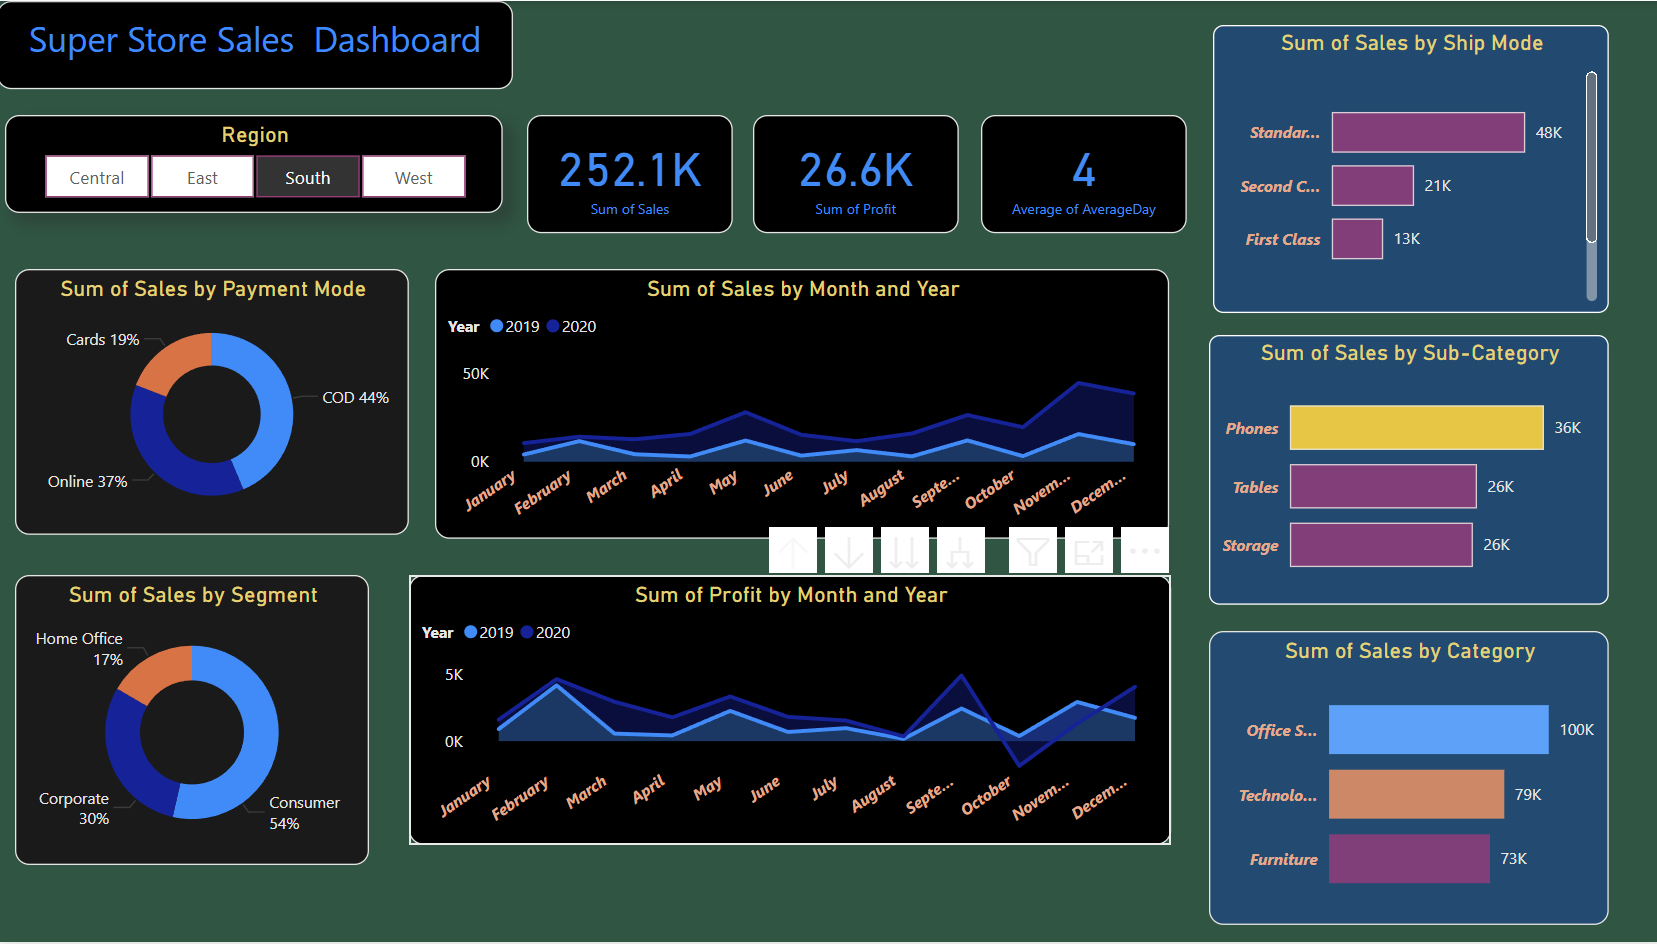

The page's visual inventory and layout, read from the dashboard file:
{"tool":"powerbi","page":{"name":"Page 1","canvas":[1280,720],"ordinal":0},"visuals":[{"type":"clusteredBarChart","fields":{"Category":["SuperStore_Sales_Dataset.Category"],"Y":["Sum(SuperStore_Sales_Dataset.Sales)"]},"box":[929.4,482.3,306.2,225.1],"z":0},{"type":"clusteredBarChart","fields":{"Category":["SuperStore_Sales_Dataset.Sub-Category"],"Y":["Sum(SuperStore_Sales_Dataset.Sales)"]},"box":[929.4,255.7,306.2,206.7],"z":1000},{"type":"clusteredBarChart","fields":{"Category":["SuperStore_Sales_Dataset.Ship Mode"],"Y":["Sum(SuperStore_Sales_Dataset.Sales)"]},"box":[932.4,18.4,303.2,220.5],"z":2000},{"type":"stackedAreaChart","fields":{"Y":["Sum(SuperStore_Sales_Dataset.Sales)"],"Series":["SuperStore_Sales_Dataset.Order Date.Variation.Date Hierarchy.Year"],"Category":["SuperStore_Sales_Dataset.Order Date.Variation.Date Hierarchy.Month","SuperStore_Sales_Dataset.Order Date.Variation.Date Hierarchy.Day"]},"box":[336.8,205.2,561.9,206.7],"z":3000},{"type":"stackedAreaChart","fields":{"Series":["SuperStore_Sales_Dataset.Order Date.Variation.Date Hierarchy.Year"],"Category":["SuperStore_Sales_Dataset.Order Date.Variation.Date Hierarchy.Month","SuperStore_Sales_Dataset.Order Date.Variation.Date Hierarchy.Day"],"Y":["Sum(SuperStore_Sales_Dataset.Profit)"]},"box":[316.9,439.4,583.3,206.7],"z":4000},{"type":"donutChart","fields":{"Category":["SuperStore_Sales_Dataset.Segment"],"Y":["Sum(SuperStore_Sales_Dataset.Sales)"]},"box":[15.3,439.4,271,222],"z":5000},{"type":"donutChart","fields":{"Category":["SuperStore_Sales_Dataset.Payment Mode"],"Y":["Sum(SuperStore_Sales_Dataset.Sales)"]},"box":[15.3,205.2,301.6,203.6],"z":6000},{"type":"slicer","title":"Region","fields":{"Values":["SuperStore_Sales_Dataset.Region"]},"box":[7.7,87.3,381.2,75],"z":7000},{"type":"textbox","box":[1.5,0,395,67.4],"z":8000},{"type":"card","fields":{"Values":["Sum(SuperStore_Sales_Dataset.Sales)"]},"box":[407.3,87.3,157.7,90.3],"z":9000},{"type":"card","fields":{"Values":["Sum(SuperStore_Sales_Dataset.Profit)"]},"box":[580.3,87.3,157.7,90.3],"z":10000},{"type":"card","fields":{"Values":["Avg(SuperStore_Sales_Dataset.AverageDay)"]},"box":[754.8,87.3,157.7,90.3],"z":11000}]}

Visuals, with their boxes in screenshot pixels (x1, y1, x2, y2), scaled from the page's 1280x720 canvas onto the 1657x944 screenshot:
clusteredBarChart - SuperStore_Sales_Dataset.Category x Sum(SuperStore_Sales_Dataset.Sales): BBox(1203, 632, 1600, 927)
clusteredBarChart - SuperStore_Sales_Dataset.Sub-Category x Sum(SuperStore_Sales_Dataset.Sales): BBox(1203, 335, 1600, 606)
clusteredBarChart - SuperStore_Sales_Dataset.Ship Mode x Sum(SuperStore_Sales_Dataset.Sales): BBox(1207, 24, 1600, 313)
stackedAreaChart - Sum(SuperStore_Sales_Dataset.Sales) x SuperStore_Sales_Dataset.Order Date.Variation.Date Hierarchy.Year: BBox(436, 269, 1163, 540)
stackedAreaChart - SuperStore_Sales_Dataset.Order Date.Variation.Date Hierarchy.Year x SuperStore_Sales_Dataset.Order Date.Variation.Date Hierarchy.Month: BBox(410, 576, 1165, 847)
donutChart - SuperStore_Sales_Dataset.Segment x Sum(SuperStore_Sales_Dataset.Sales): BBox(20, 576, 371, 867)
donutChart - SuperStore_Sales_Dataset.Payment Mode x Sum(SuperStore_Sales_Dataset.Sales): BBox(20, 269, 410, 536)
"Region" slicer: BBox(10, 114, 503, 213)
textbox: BBox(2, 0, 513, 88)
card - Sum(SuperStore_Sales_Dataset.Sales): BBox(527, 114, 731, 233)
card - Sum(SuperStore_Sales_Dataset.Profit): BBox(751, 114, 955, 233)
card - Avg(SuperStore_Sales_Dataset.AverageDay): BBox(977, 114, 1181, 233)
